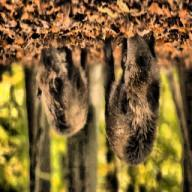boar: (102, 33, 162, 167), (36, 46, 90, 137)
